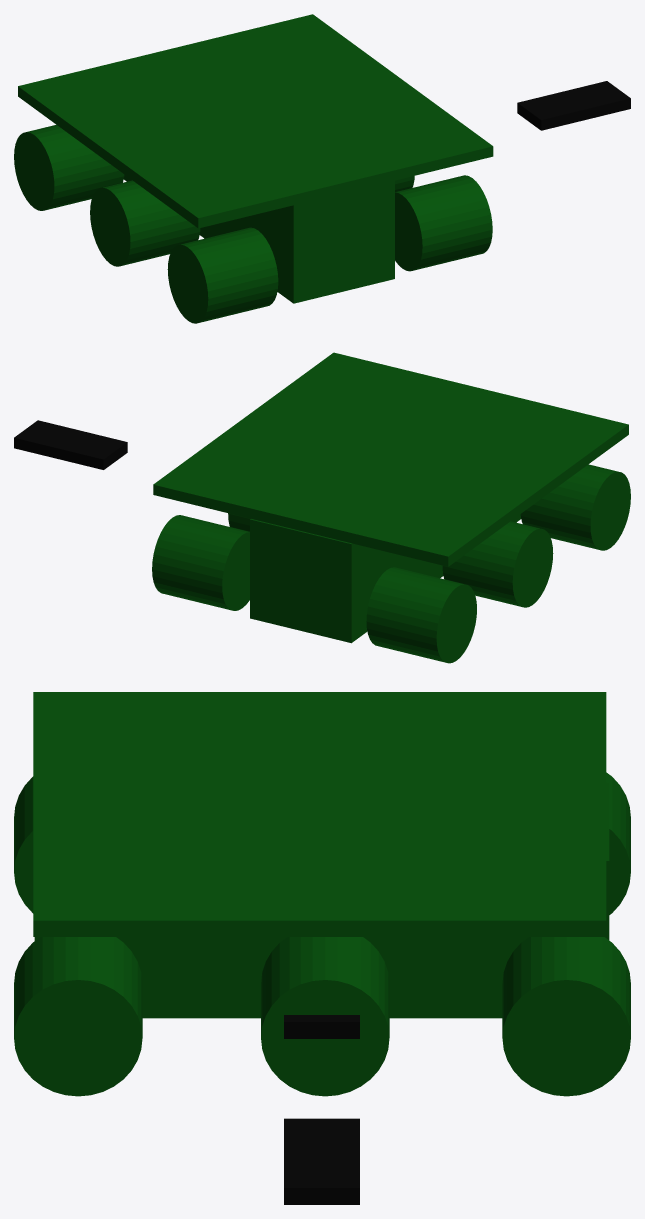
File: tankBodyV2.gltf
The picture shows the model from 3 angles, top to bottom: view 1: azimuth 30°, elevation 25°; view 2: azimuth 150°, elevation 25°; view 3: azimuth 270°, elevation 25°; orthographic projection. The views are drawn at different scales.
Parts seen in each view (by area): view 1: Cube.003, Cylinder, Cube.001; view 2: Cube.003, Cylinder, Cube.001; view 3: Cube.003, Cylinder, Cube.001.
Boxes of the visible parts, x1,y1,x2,y2 form: Cube.003: (18, 14, 493, 303); Cylinder: (14, 124, 492, 323); Cube.001: (517, 81, 630, 130); Cube.003: (153, 352, 628, 643); Cylinder: (152, 464, 630, 663); Cube.001: (14, 420, 127, 469); Cube.003: (33, 692, 609, 1018); Cylinder: (14, 772, 630, 1096); Cube.001: (284, 1015, 359, 1204).
Size of the model in its own units: 14.6 by 3.11 by 9.6.
